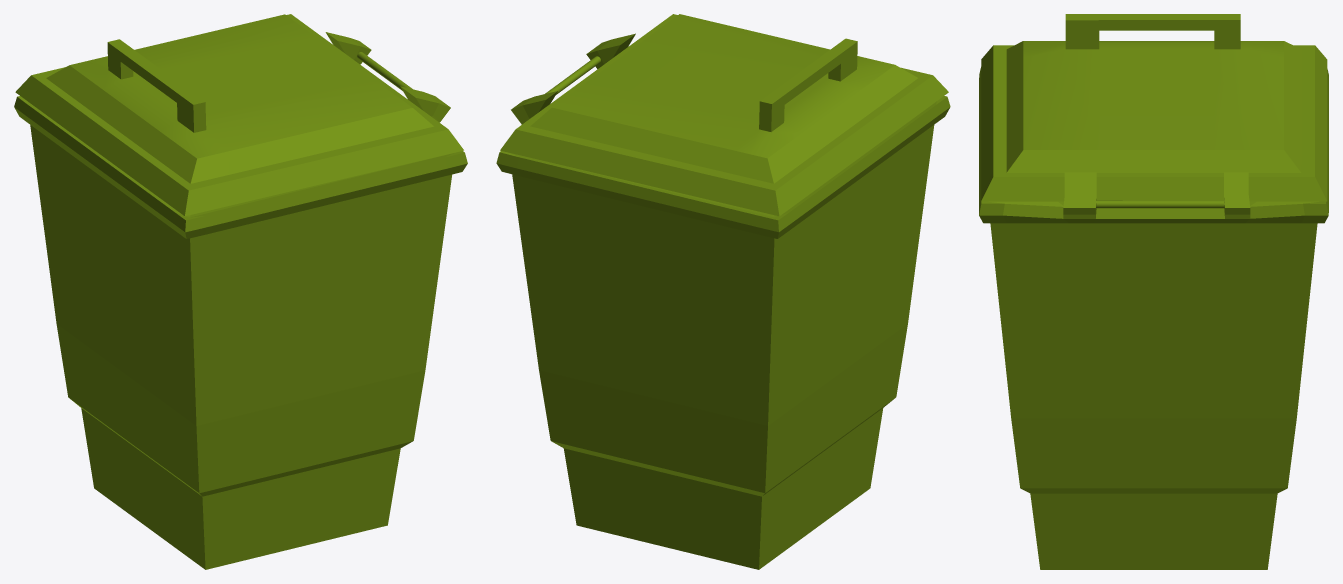
File: trash_yellow.FBX
3 views of the same model, side by side, from view 1: azimuth 30°, elevation 25°; view 2: azimuth 150°, elevation 25°; view 3: azimuth 270°, elevation 25° (orthographic). The views are drawn at different scales.
Visible parts, largest first — view 1: Box001, Box002; view 2: Box001, Box002; view 3: Box001, Box002, Cylinder001.
Boxes of the visible parts, box(x1,y1,x2,y2) form: Box001: box(14, 32, 467, 569); Box002: box(15, 14, 463, 216); Box001: box(496, 33, 950, 569); Box002: box(500, 14, 948, 216); Box001: box(979, 67, 1328, 569); Box002: box(981, 14, 1327, 201); Cylinder001: box(1096, 200, 1224, 208).
Bounding box in the file's own units: 41.51 × 58.88 × 40.14.
